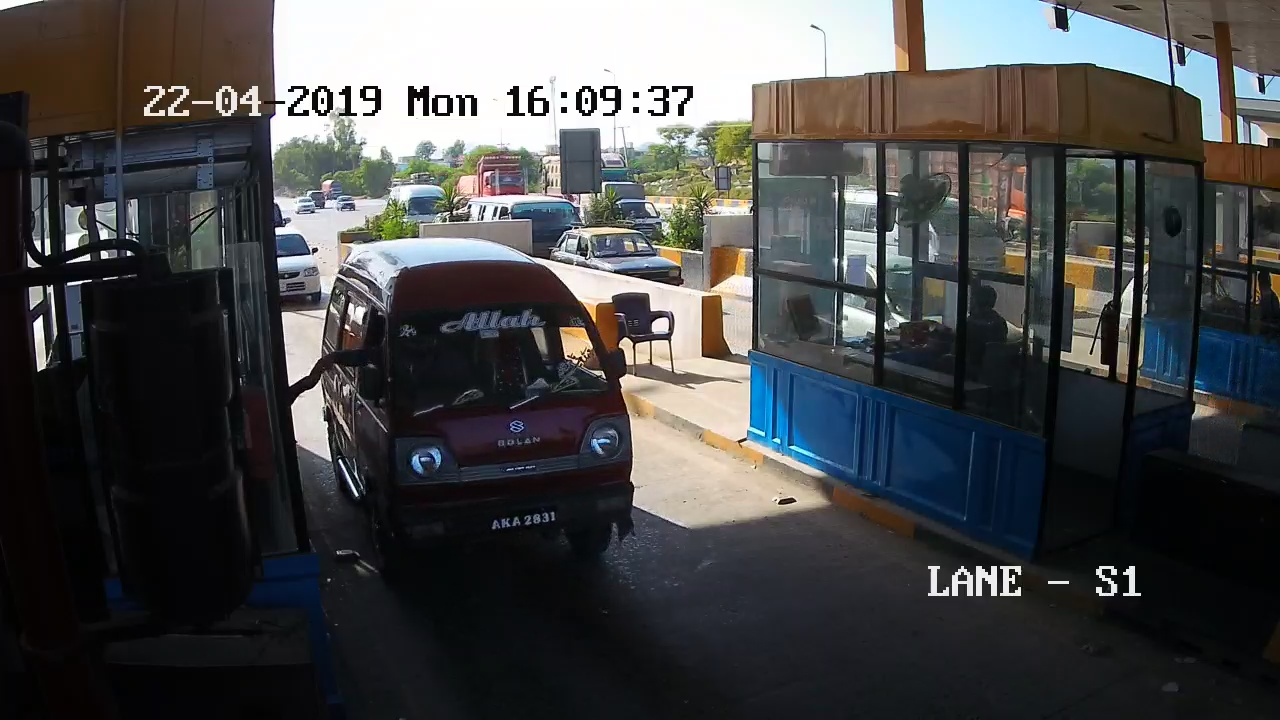Number Plate (Car): (486, 509, 559, 532)
